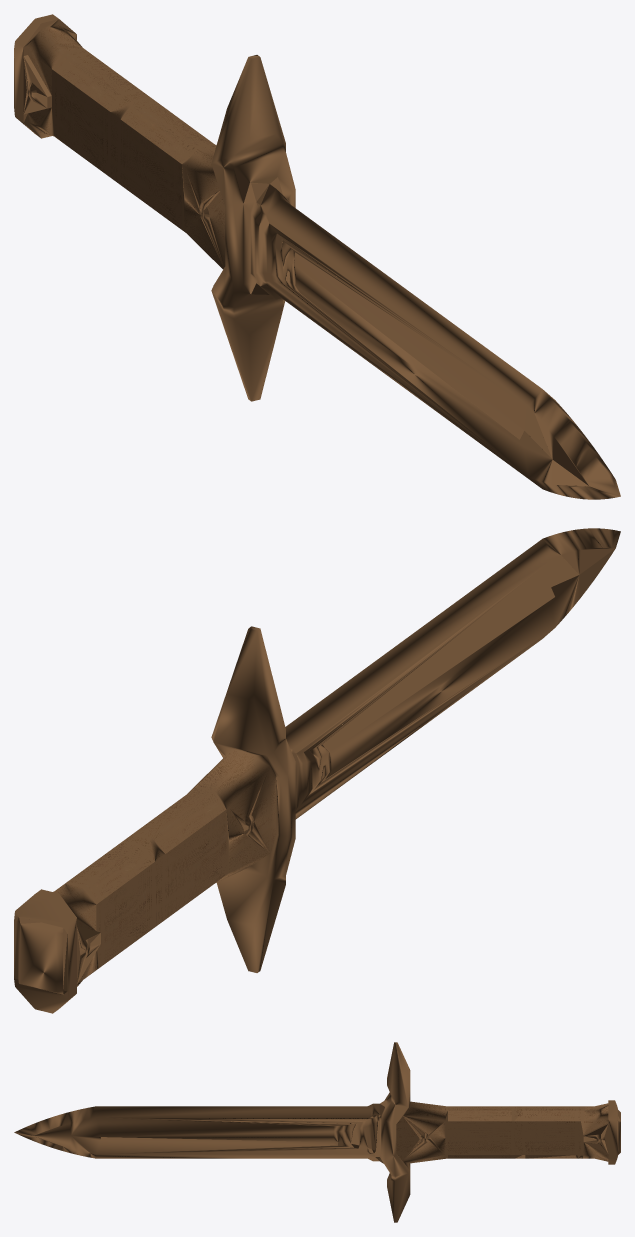
File: model_align.obj
3 views of the same model, one above another, from view 1: azimuth 30°, elevation 25°; view 2: azimuth 150°, elevation 25°; view 3: azimuth 270°, elevation 25° (orthographic). The views are drawn at different scales.
Bounding box in the file's own units: 0.0144 × 0.0756 × 0.2332.
Materials: 2 (2 with a texture image).
